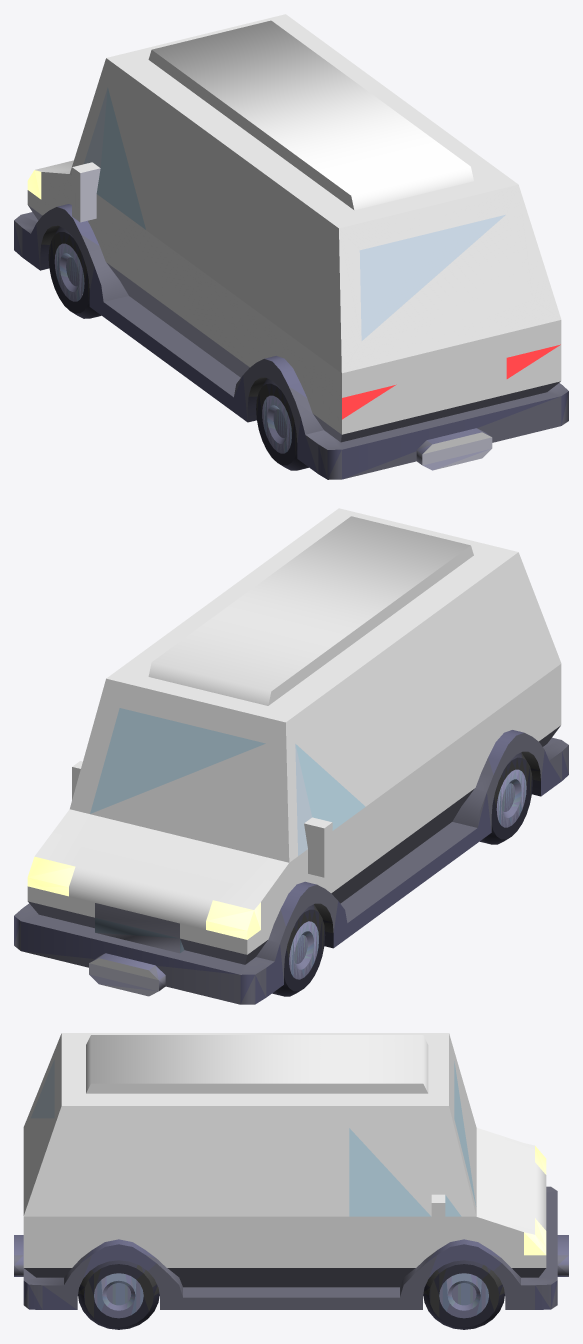
The model's file is cargo-van.glb.
The picture shows the model from 3 angles, top to bottom: view 1: azimuth 30°, elevation 25°; view 2: azimuth 150°, elevation 25°; view 3: azimuth 270°, elevation 25°; orthographic projection. The views are drawn at different scales.
Parts seen in each view (by area): view 1: body, wheel_RL, wheel_FL; view 2: body, wheel_RL, wheel_FL; view 3: body, wheel_FR, wheel_RR.
Part boxes in pixels (x1,y1,x2,y2): body: [14, 14, 568, 479]; wheel_RL: [256, 378, 308, 470]; wheel_FL: [48, 226, 101, 318]; body: [14, 508, 568, 1004]; wheel_RL: [480, 752, 532, 844]; wheel_FL: [272, 904, 325, 996]; body: [14, 1033, 568, 1309]; wheel_FR: [423, 1260, 504, 1329]; wheel_RR: [78, 1260, 159, 1329].
Size of the model in its own units: 2 by 2.06 by 4.58.
